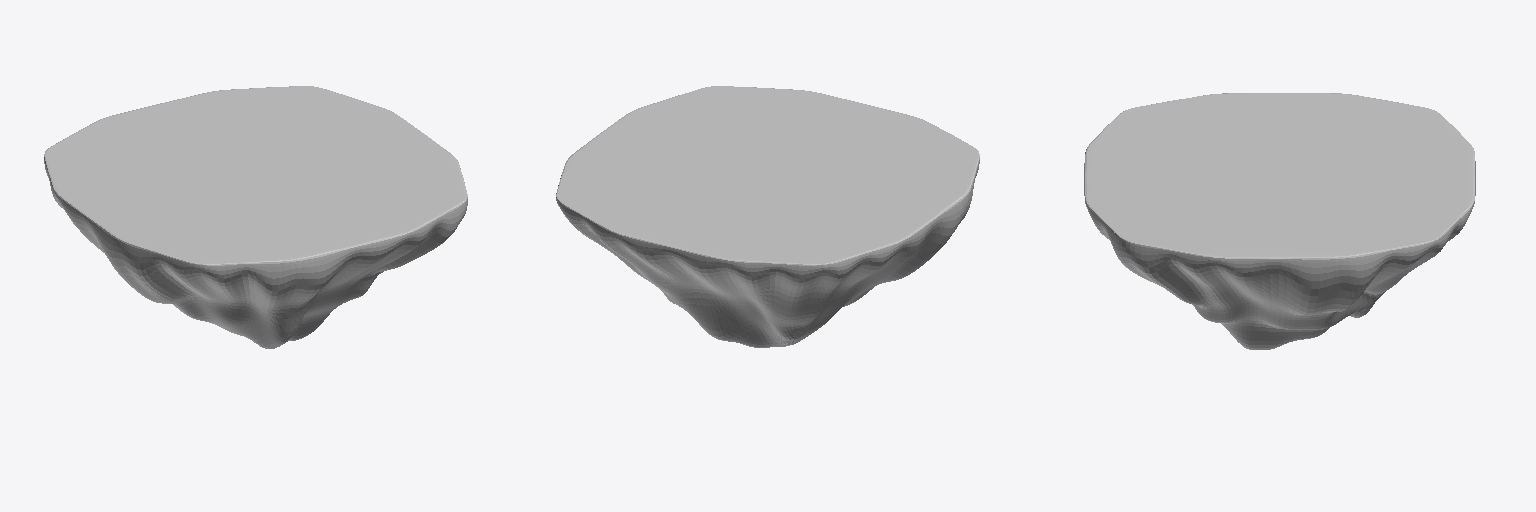
The model's file is yahaba_dodai.obj.
3 views of the same model, side by side, from view 1: azimuth 30°, elevation 25°; view 2: azimuth 150°, elevation 25°; view 3: azimuth 270°, elevation 25° (orthographic).
Parts seen in each view (by area): view 1: 平面.006_平面.014; view 2: 平面.006_平面.014; view 3: 平面.006_平面.014.
Boxes of the visible parts, x1=… form: 平面.006_平面.014: x1=44, y1=86, x2=467, y2=348; 平面.006_平面.014: x1=556, y1=86, x2=979, y2=347; 平面.006_平面.014: x1=1084, y1=93, x2=1475, y2=349.
Size of the model in its own units: 49.15 by 22.46 by 49.15.